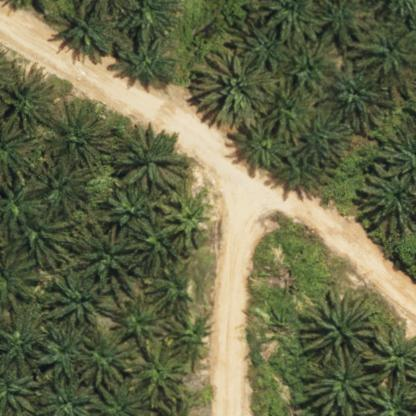Palm Oil: (188, 49, 284, 130), (297, 286, 382, 372), (318, 58, 398, 137), (111, 121, 191, 198), (45, 98, 116, 177), (72, 224, 149, 296), (9, 204, 79, 272), (98, 288, 168, 356), (124, 335, 189, 408), (40, 265, 112, 330), (30, 154, 98, 222), (277, 28, 342, 97), (258, 78, 322, 146), (0, 59, 56, 136), (152, 185, 210, 257), (70, 325, 130, 394), (34, 312, 88, 385), (290, 111, 354, 171), (227, 116, 296, 171), (109, 34, 179, 88), (228, 20, 298, 74), (142, 258, 194, 325), (97, 176, 154, 236), (53, 4, 112, 58), (268, 145, 326, 197)
